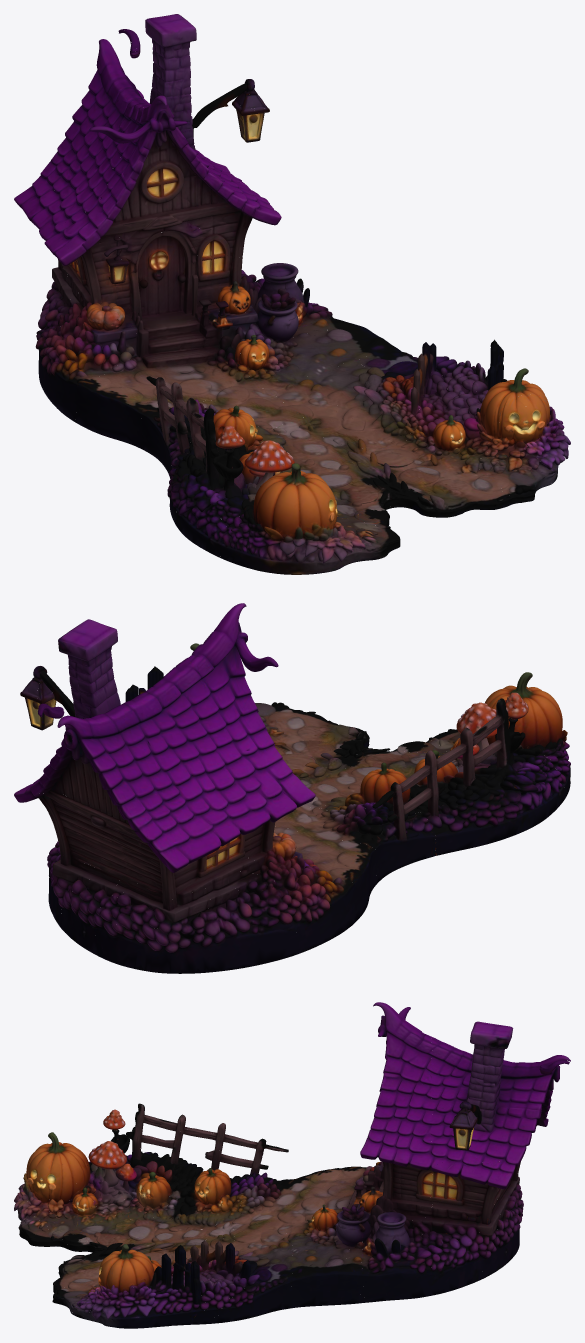
Rendered from Casa_da_bruxa_web.glb.
The picture shows the model from 3 angles, top to bottom: view 1: azimuth 30°, elevation 25°; view 2: azimuth 150°, elevation 25°; view 3: azimuth 270°, elevation 25°; orthographic projection. The views are drawn at different scales.
Visible parts, largest first — view 1: world; view 2: world; view 3: world.
Part boxes in pixels (left/top/right/bottom): world: left=14, top=14, right=570, bottom=574; world: left=14, top=603, right=570, bottom=973; world: left=14, top=1002, right=570, bottom=1328.
Size of the model in its own units: 0.6194 by 0.4777 by 1.
1 material, 1 textured.
